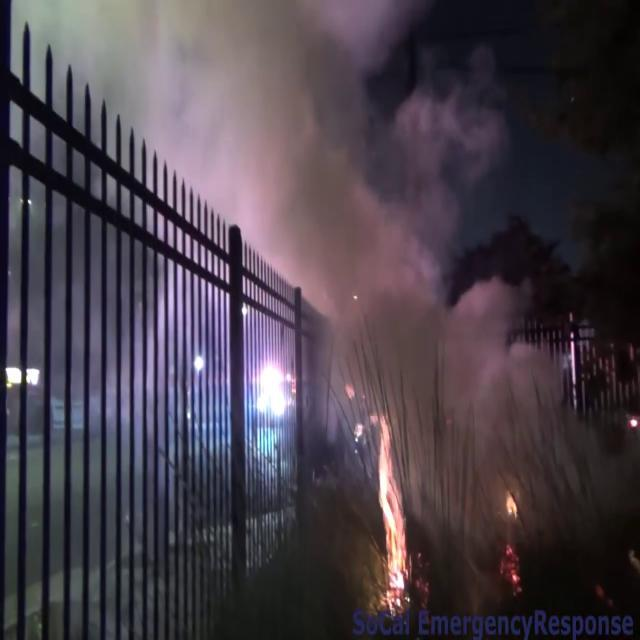Fire: (372, 418, 412, 608)
Smoke: (226, 0, 480, 455)
